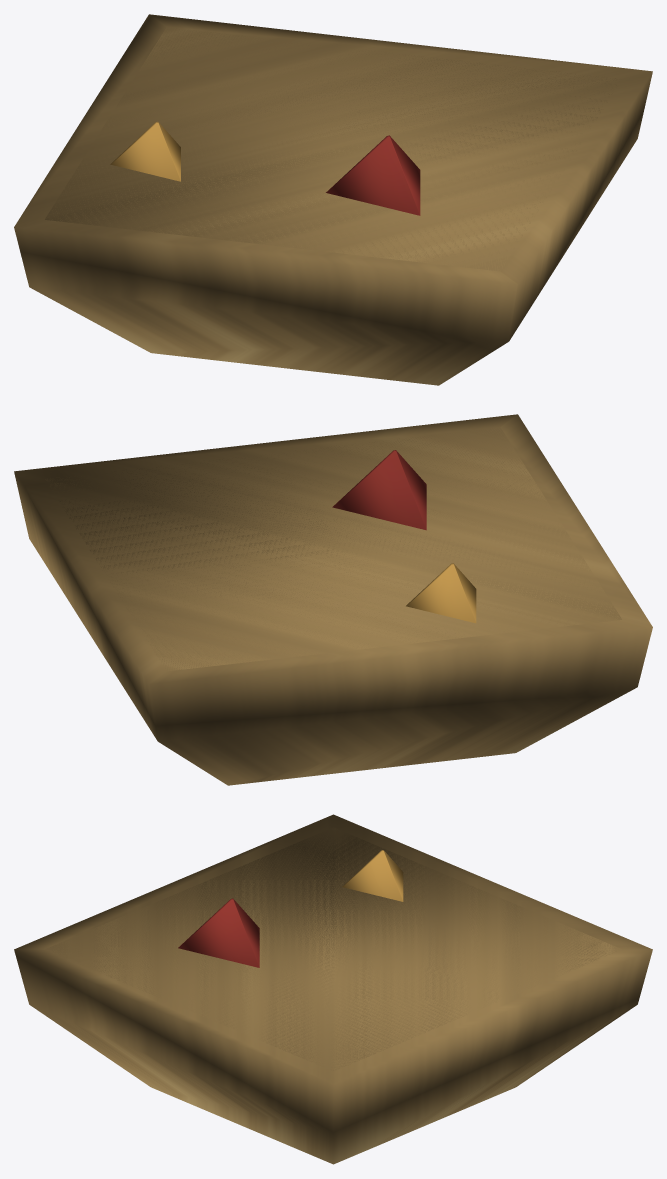
The model's file is FoodPlatter_1_LOD2.gltf.
3 renders of one model, top to bottom at view 1: azimuth 30°, elevation 25°; view 2: azimuth 150°, elevation 25°; view 3: azimuth 270°, elevation 25°, orthographic. The views are drawn at different scales.
Visible parts, largest first — view 1: FoodPlatter_1_LOD2; view 2: FoodPlatter_1_LOD2; view 3: FoodPlatter_1_LOD2.
Boxes of the visible parts, <box> form: FoodPlatter_1_LOD2: <box>14,14,652,385</box>; FoodPlatter_1_LOD2: <box>14,414,652,785</box>; FoodPlatter_1_LOD2: <box>14,814,652,1164</box>.
Bounding box in the file's own units: 0.42 × 0.1357 × 0.42.
Materials: 3 (3 with a texture image).
